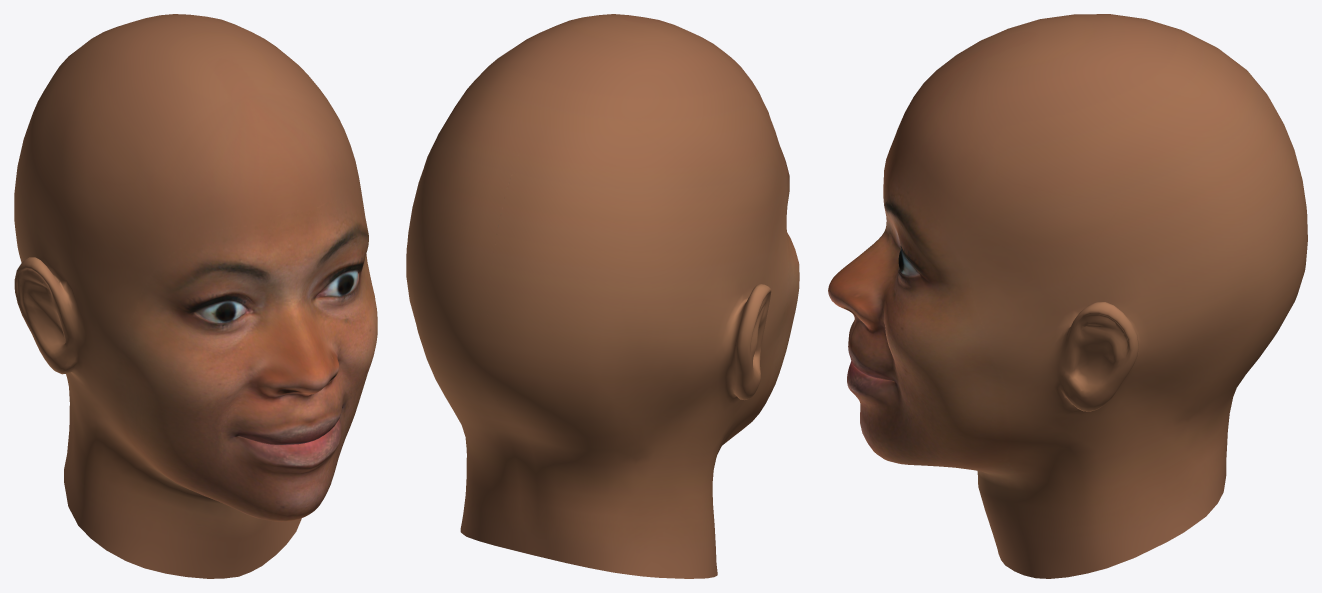
Rendered from v332_obj_ExpressionSmileClosed.obj.
The picture shows the model from 3 angles, left to right: view 1: azimuth 30°, elevation 25°; view 2: azimuth 150°, elevation 25°; view 3: azimuth 270°, elevation 25°; orthographic projection. The views are drawn at different scales.
Parts seen in each view (by area): view 1: HeadHires; view 2: HeadHires; view 3: HeadHires.
Part boxes in pixels (left/top/right/bottom): HeadHires: left=14, top=14, right=377, bottom=578; HeadHires: left=406, top=14, right=799, bottom=578; HeadHires: left=828, top=14, right=1307, bottom=578.
Size of the model in its own units: 187 by 282 by 233.
